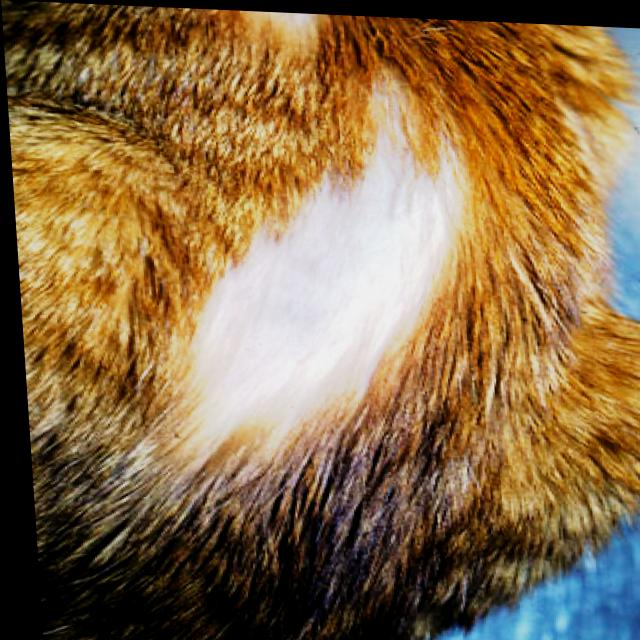hairloss: (207, 133, 444, 422)
